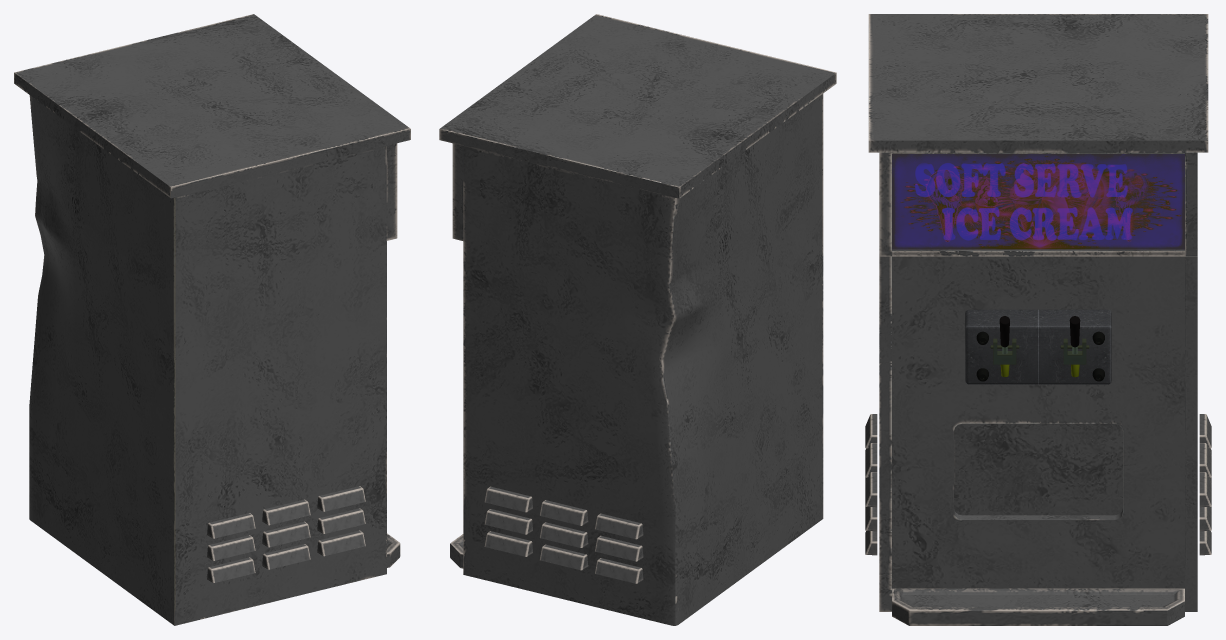
The model's file is icecreammachine.glb.
The picture shows the model from 3 angles, left to right: view 1: azimuth 30°, elevation 25°; view 2: azimuth 150°, elevation 25°; view 3: azimuth 270°, elevation 25°; orthographic projection. The views are drawn at different scales.
Visible parts, largest first — view 1: MainBody, FrontBOdyTop, Vents; view 2: MainBody, FrontBOdyTop, Vents; view 3: FrontBOdyTop, mainFrontWall, Catcher, BlackPart, Vents.
Part boxes in pixels (bbox=[...]): MainBody: bbox=[29, 95, 386, 625]; FrontBOdyTop: bbox=[14, 14, 410, 240]; Vents: bbox=[207, 486, 365, 582]; MainBody: bbox=[463, 94, 823, 625]; FrontBOdyTop: bbox=[439, 14, 836, 240]; Vents: bbox=[484, 486, 643, 583]; FrontBOdyTop: bbox=[868, 14, 1208, 611]; mainFrontWall: bbox=[892, 256, 1184, 588]; Catcher: bbox=[892, 588, 1184, 625]; BlackPart: bbox=[965, 309, 1111, 384]; Vents: bbox=[865, 414, 1211, 555].
Size of the model in its own units: 2.52 by 4 by 2.61.
Materials: 1 (1 with a texture image).
